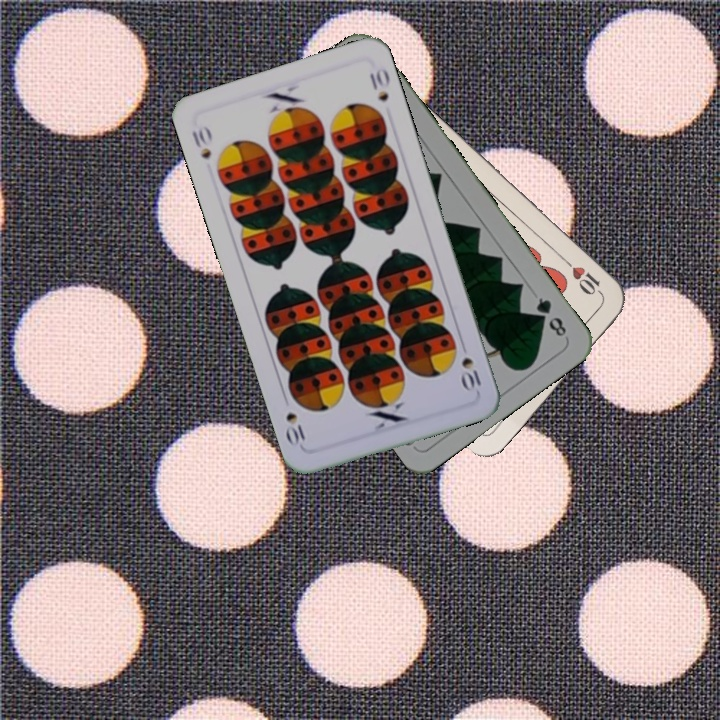G8: (531, 293, 569, 340)
H10: (559, 254, 606, 299)
S10: (456, 353, 484, 395), (188, 121, 214, 162)
